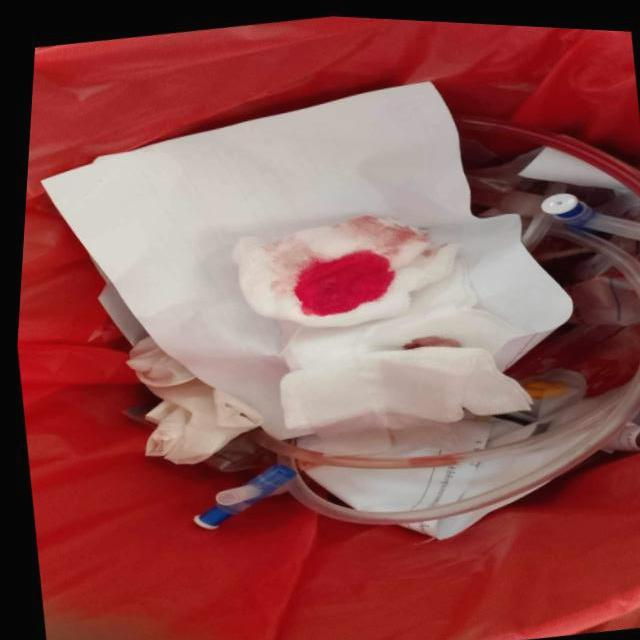General: (40, 80, 638, 542)
Infectious: (231, 215, 462, 329)
Sharps: (192, 463, 297, 530), (540, 192, 638, 241)
